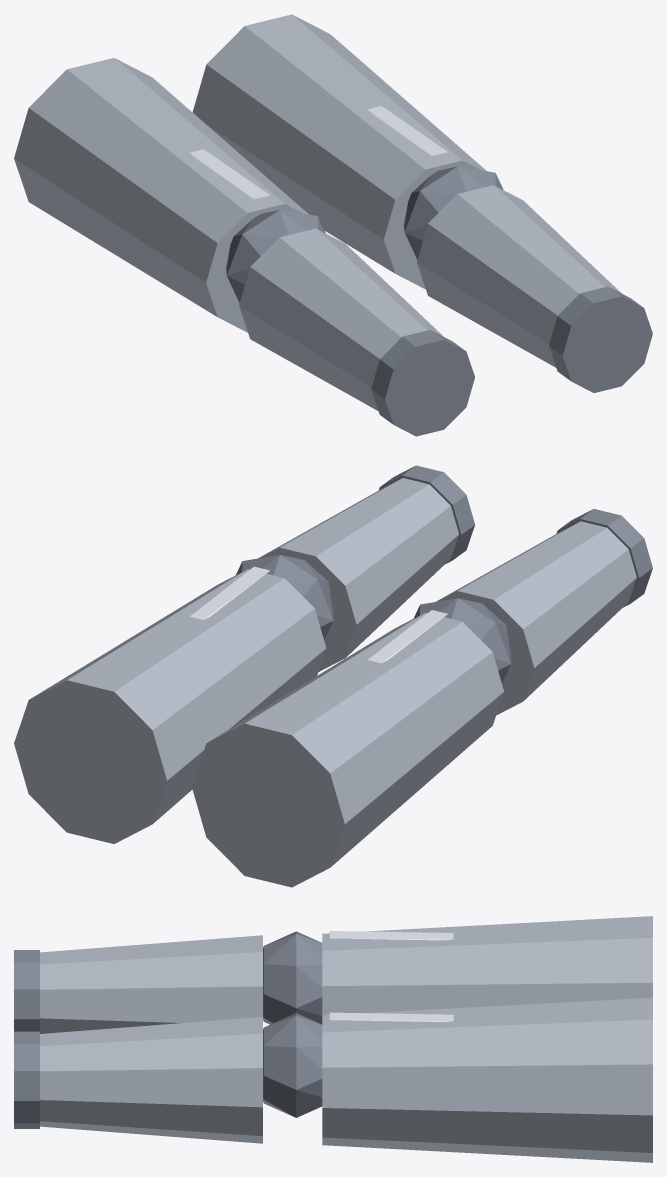
File: drop_steel_legs.glb
3 views of the same model, one above another, from view 1: azimuth 30°, elevation 25°; view 2: azimuth 150°, elevation 25°; view 3: azimuth 270°, elevation 25° (orthographic). The views are drawn at different scales.
Parts seen in each view (by area): view 1: drop_steel_legs; view 2: drop_steel_legs; view 3: drop_steel_legs.
Part boxes in pixels (x1,y1,x2,y2): drop_steel_legs: [14, 14, 652, 436]; drop_steel_legs: [14, 465, 652, 887]; drop_steel_legs: [14, 916, 652, 1162].
Bounding box in the file's own units: 0.3872 × 0.1704 × 0.688.
